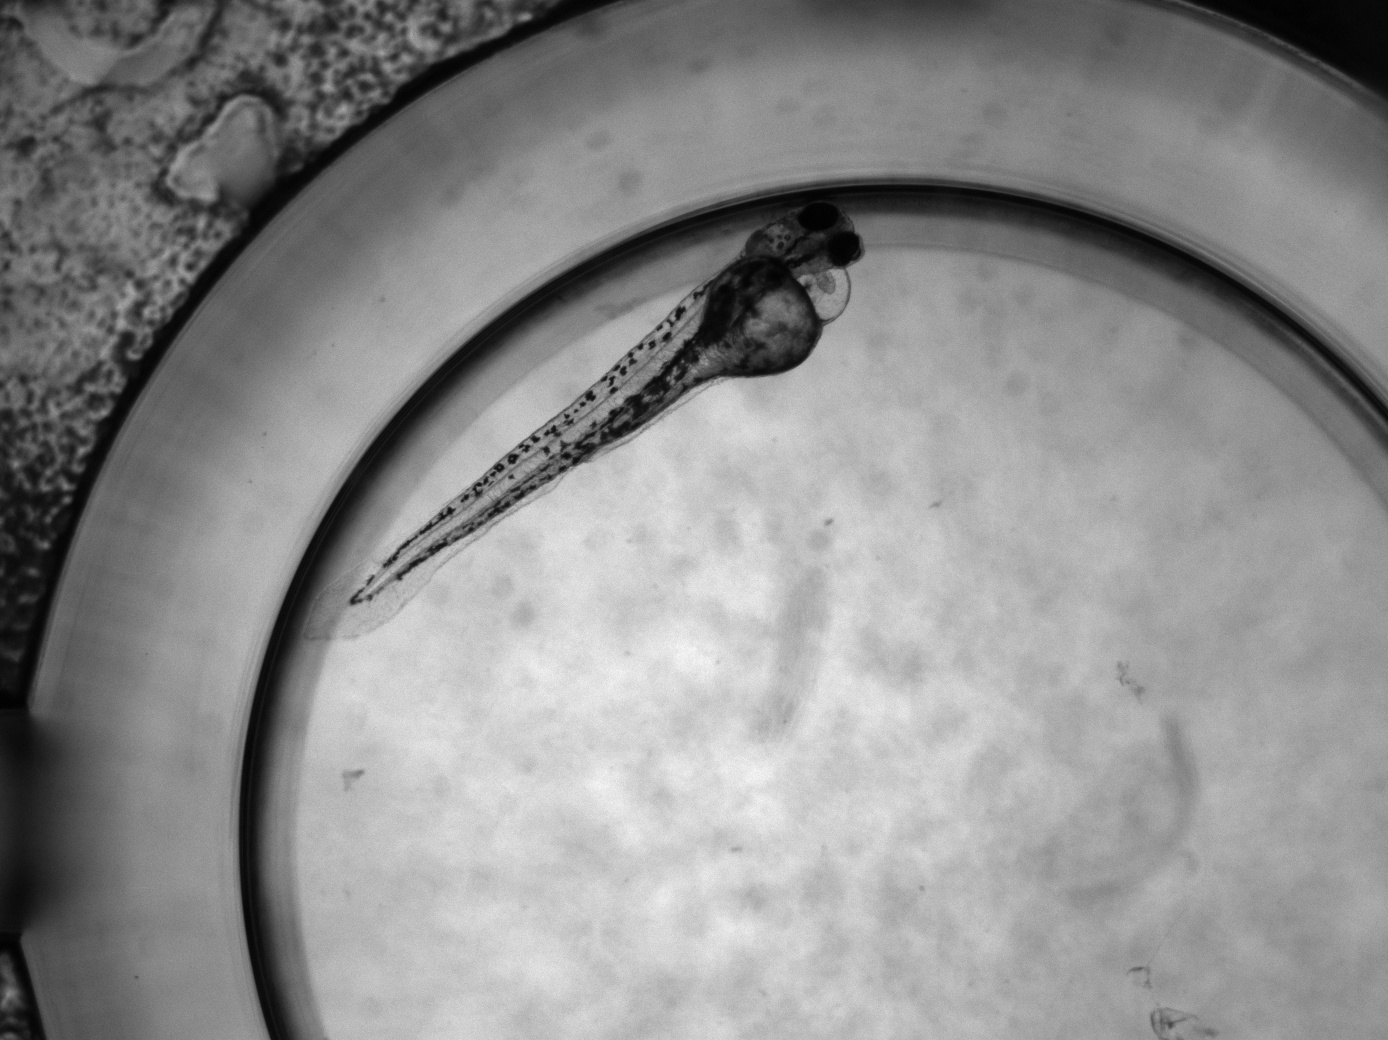embryo: (349, 200, 865, 607)
eye: (828, 231, 861, 268), (798, 203, 840, 231)
yolksac: (695, 256, 823, 379)
